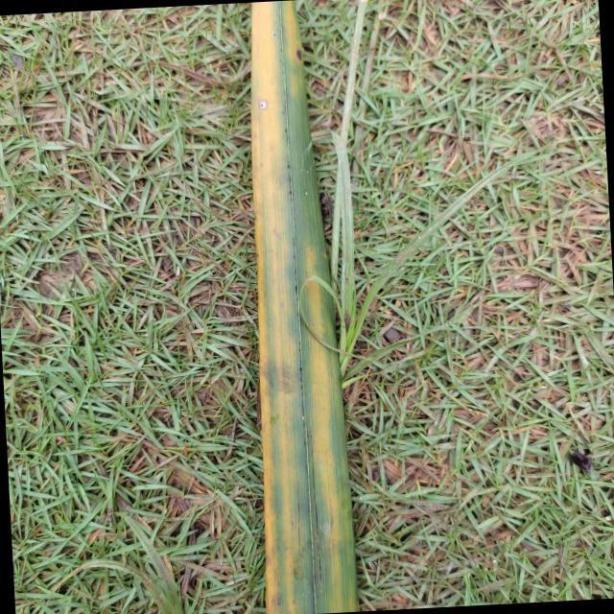Megnesium: (250, 0, 358, 614)
